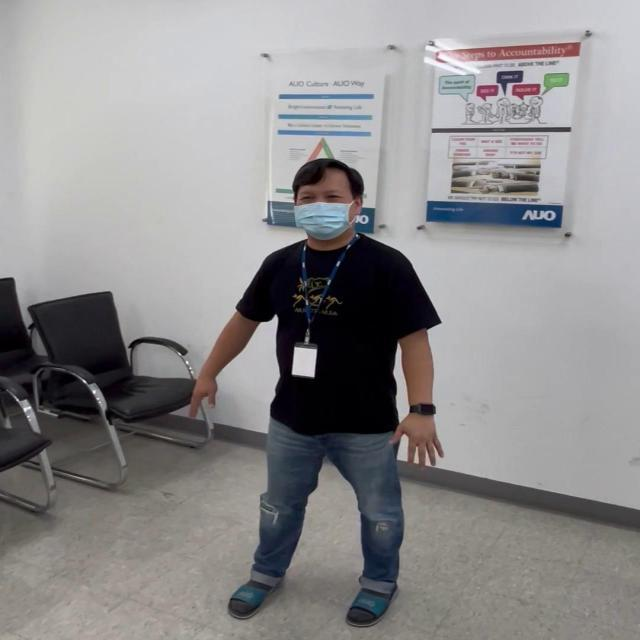bare_hand: (389, 408, 445, 466), (186, 366, 222, 423)
